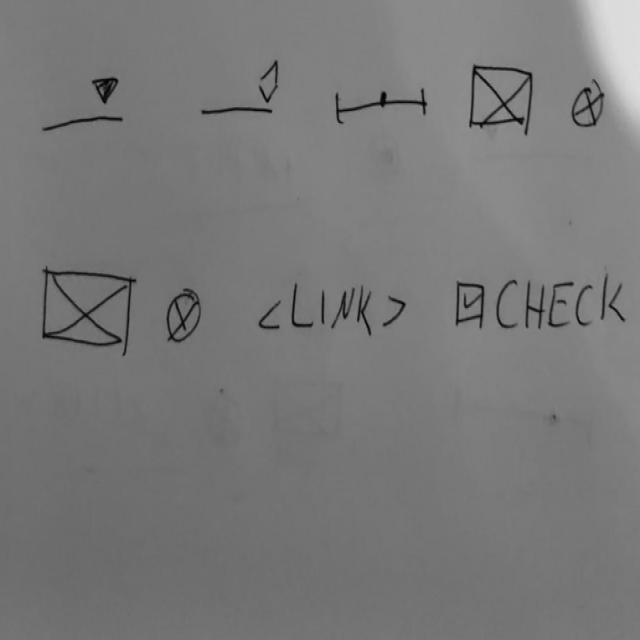checkbox: (455, 271, 631, 334)
image: (40, 264, 136, 354), (469, 62, 535, 131), (167, 288, 203, 347), (571, 80, 607, 134)
link: (257, 281, 409, 341)
number-input: (201, 57, 285, 119)
select: (41, 72, 127, 138)
slider: (334, 85, 430, 127)
